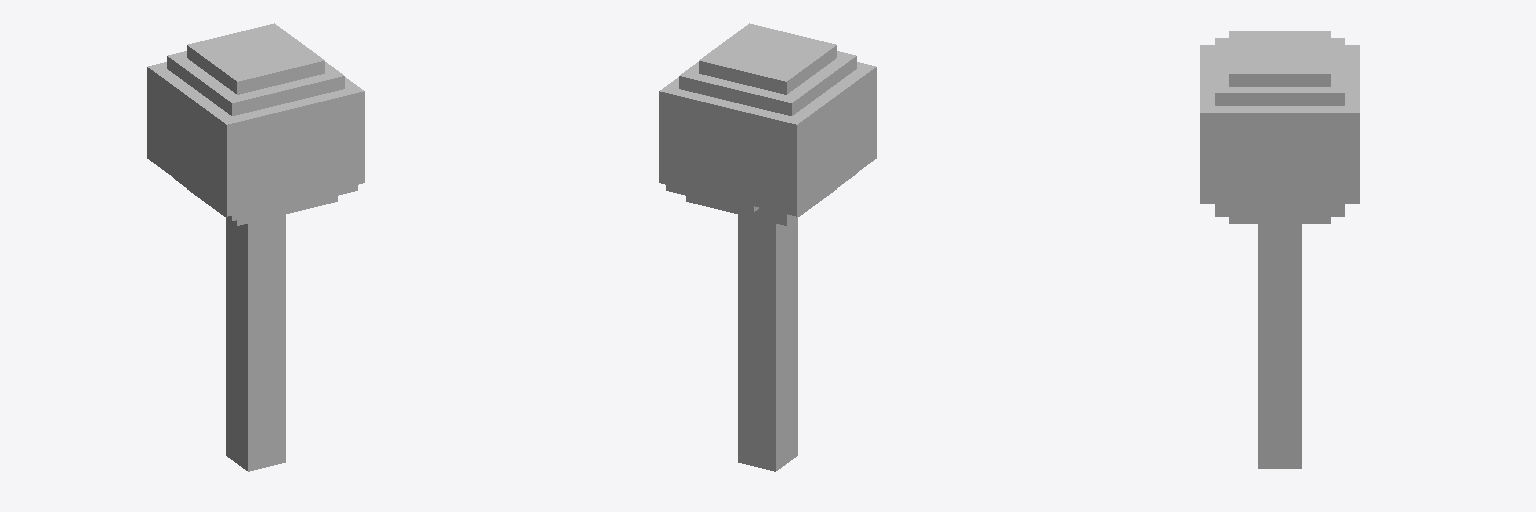
File: tree2.obj
3 renders of one model, left to right at view 1: azimuth 30°, elevation 25°; view 2: azimuth 150°, elevation 25°; view 3: azimuth 270°, elevation 25°, orthographic.
Visible parts, largest first — view 1: object 1; view 2: object 1; view 3: object 1.
Part boxes in pixels (left/top/right/bottom): object 1: left=147, top=23, right=364, bottom=471; object 1: left=659, top=23, right=876, bottom=471; object 1: left=1200, top=31, right=1359, bottom=468.
Bounding box in the file's own units: 1.1 × 3.1 × 1.1.